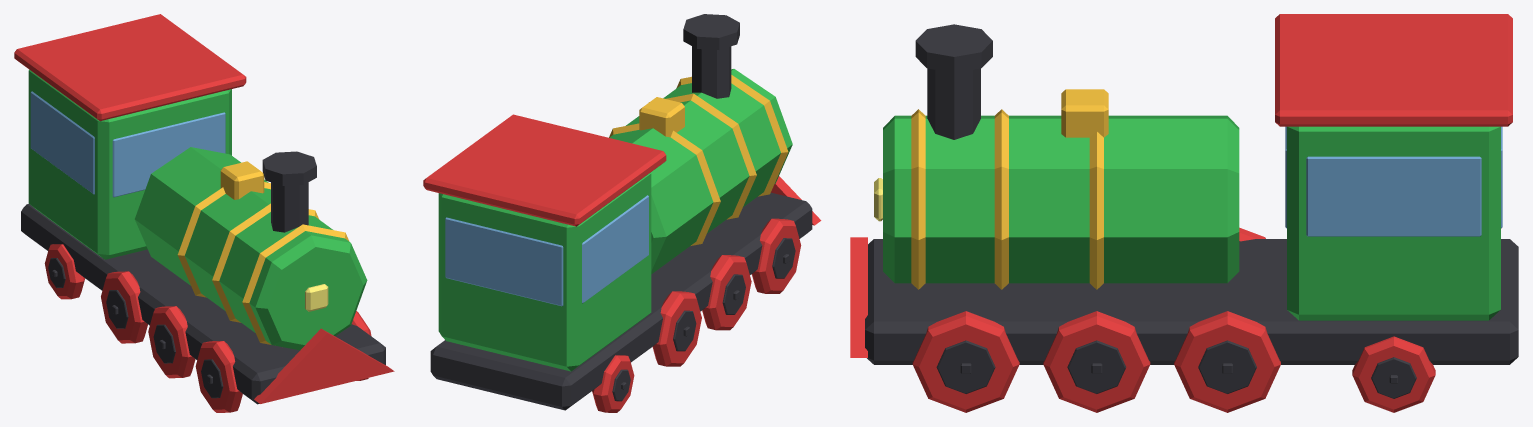
The model's file is Train.fbx.
3 views of the same model, side by side, from view 1: azimuth 30°, elevation 25°; view 2: azimuth 150°, elevation 25°; view 3: azimuth 270°, elevation 25° (orthographic). The views are drawn at different scales.
Visible parts, largest first — view 1: Train, Train_WheelR3, Train_WheelR2, Train_WheelR1, Train_WheelR4; view 2: Train, Train_WheelR2, Train_WheelR3, Train_WheelR1, Train_WheelR4; view 3: Train, Train_WheelL2, Train_WheelL1, Train_WheelL3, Train_WheelL4.
Boxes of the visible parts, x1=… form: Train: x1=14, y1=14, x2=394, y2=404; Train_WheelR3: x1=101, y1=271, x2=147, y2=343; Train_WheelR2: x1=148, y1=306, x2=195, y2=378; Train_WheelR1: x1=195, y1=341, x2=242, y2=412; Train_WheelR4: x1=44, y1=244, x2=84, y2=299; Train: x1=423, y1=14, x2=821, y2=410; Train_WheelR2: x1=702, y1=255, x2=751, y2=330; Train_WheelR3: x1=652, y1=291, x2=701, y2=366; Train_WheelR1: x1=751, y1=218, x2=801, y2=293; Train_WheelR4: x1=592, y1=355, x2=634, y2=412; Train: x1=850, y1=14, x2=1518, y2=364; Train_WheelL2: x1=1043, y1=311, x2=1150, y2=412; Train_WheelL1: x1=912, y1=311, x2=1019, y2=412; Train_WheelL3: x1=1174, y1=311, x2=1280, y2=412; Train_WheelL4: x1=1352, y1=336, x2=1435, y2=412.
Size of the model in its own units: 4.12 by 6.05 by 11.25.
1 material, 1 textured.
